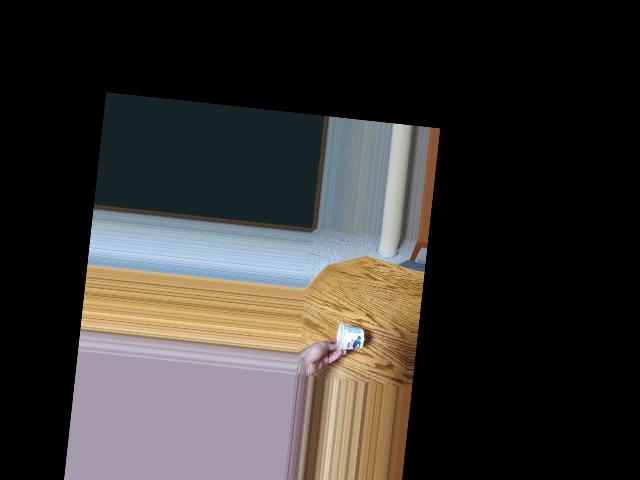cotage: (328, 319, 365, 358)
